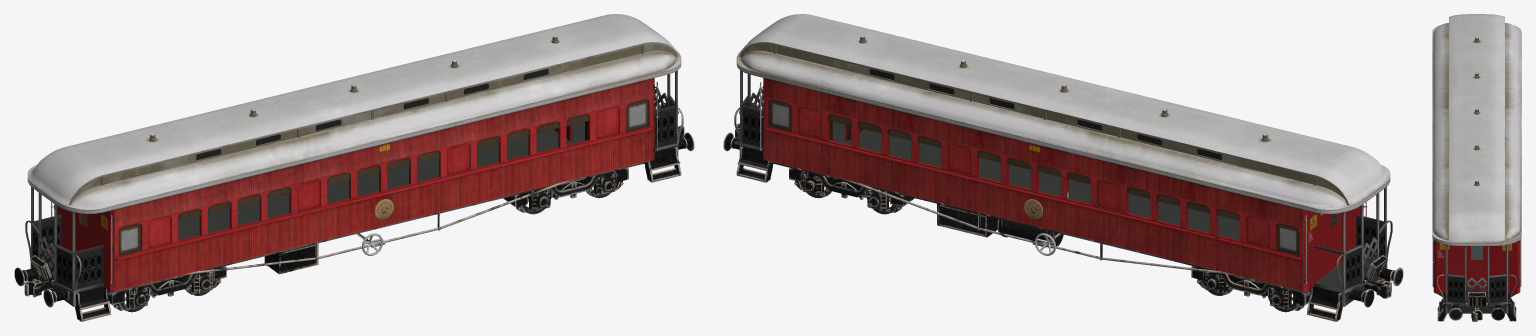
Rendered from carriage_empty.gltf.
3 renders of one model, left to right at view 1: azimuth 30°, elevation 25°; view 2: azimuth 150°, elevation 25°; view 3: azimuth 270°, elevation 25°, orthographic. The views are drawn at different scales.
Visible parts, largest first — view 1: exterior, exterior_2sided, bogie, bogie.001, top_windows; view 2: exterior, exterior_2sided, bogie, bogie.001, top_windows; view 3: exterior, exterior_2sided, windows.
Part boxes in pixels (<box>): exterior: <box>14,14,694,321</box>; exterior_2sided: <box>32,99,675,289</box>; bogie: <box>107,266,226,310</box>; bogie.001: <box>503,168,628,212</box>; top_windows: <box>196,69,548,159</box>; exterior: <box>723,14,1403,321</box>; exterior_2sided: <box>742,99,1385,288</box>; bogie: <box>1191,266,1310,310</box>; bogie.001: <box>789,168,914,212</box>; top_windows: <box>869,69,1221,159</box>; exterior: <box>1432,14,1521,321</box>; exterior_2sided: <box>1447,276,1506,303</box>; windows: <box>1471,246,1482,259</box>.
Bounding box in the file's own units: 20.88 × 4.86 × 3.38.
Materials: 5 (4 with a texture image).
